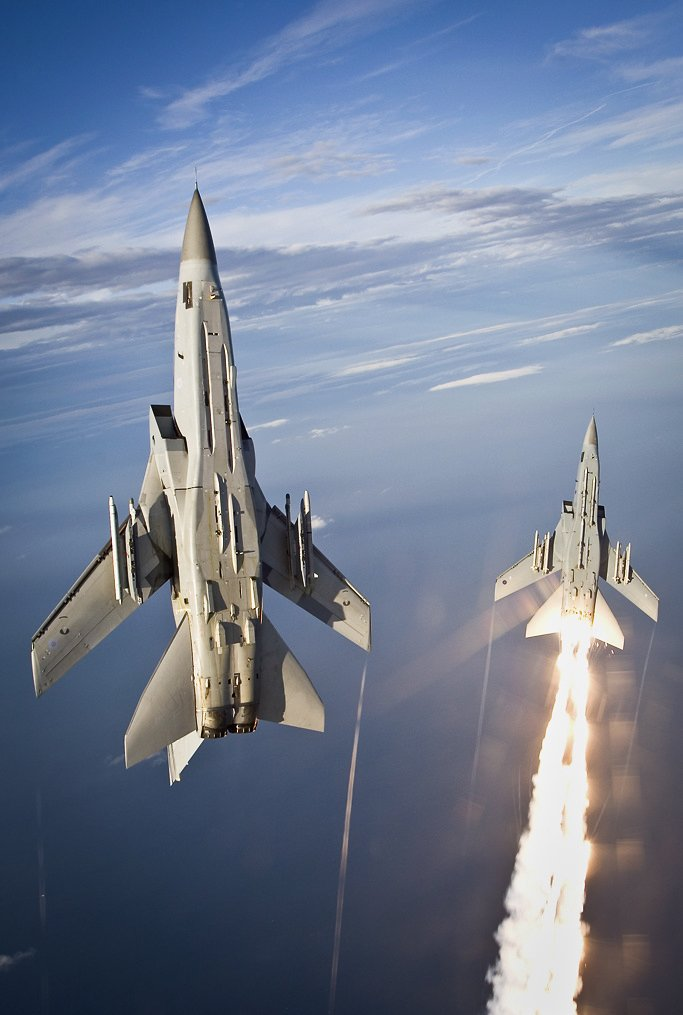airplane: (30, 166, 371, 789), (494, 407, 660, 651)
